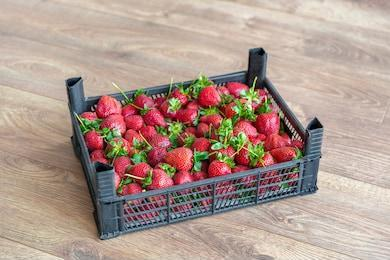Fresa: (162, 146, 196, 175), (255, 108, 284, 139), (143, 167, 176, 194), (100, 111, 129, 141), (141, 106, 169, 131), (269, 144, 300, 166), (124, 161, 153, 184)
